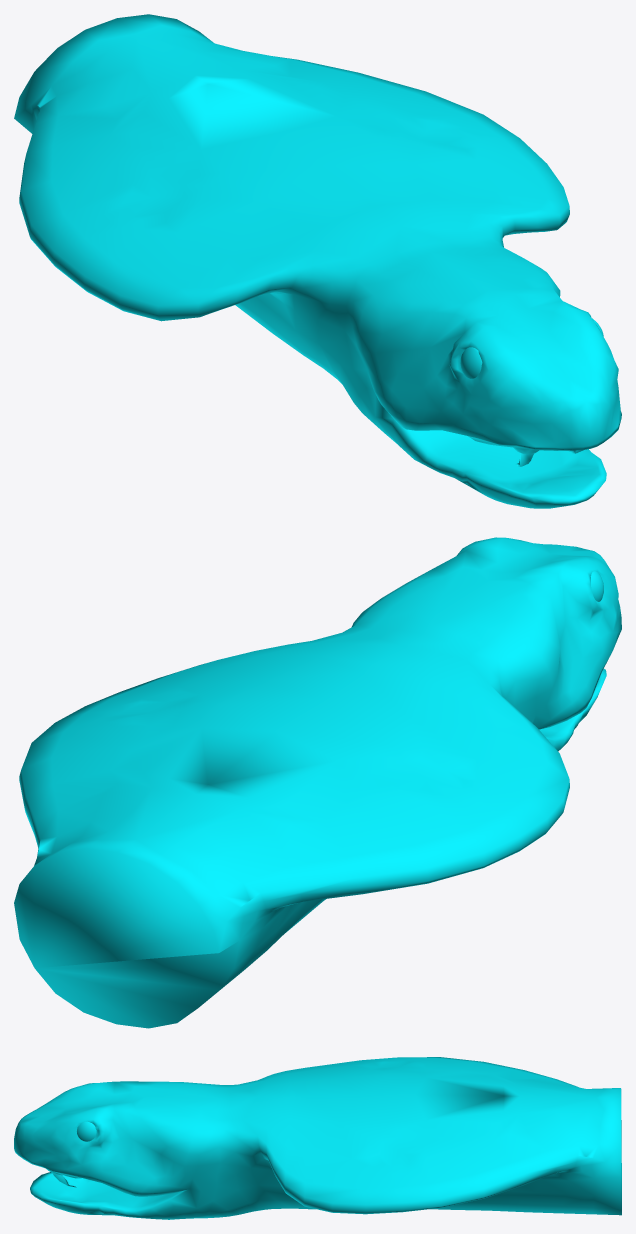
File: snake1.obj
The picture shows the model from 3 angles, top to bottom: view 1: azimuth 30°, elevation 25°; view 2: azimuth 150°, elevation 25°; view 3: azimuth 270°, elevation 25°; orthographic projection. The views are drawn at different scales.
Visible parts, largest first — view 1: COBRA; view 2: COBRA; view 3: COBRA.
Part boxes in pixels (bbox=[...]): COBRA: bbox=[14, 14, 621, 508]; COBRA: bbox=[14, 537, 621, 1028]; COBRA: bbox=[14, 1057, 621, 1219].
Size of the model in its own units: 0.1156 by 0.0414 by 0.203.
Materials: 1 (1 with a texture image).
